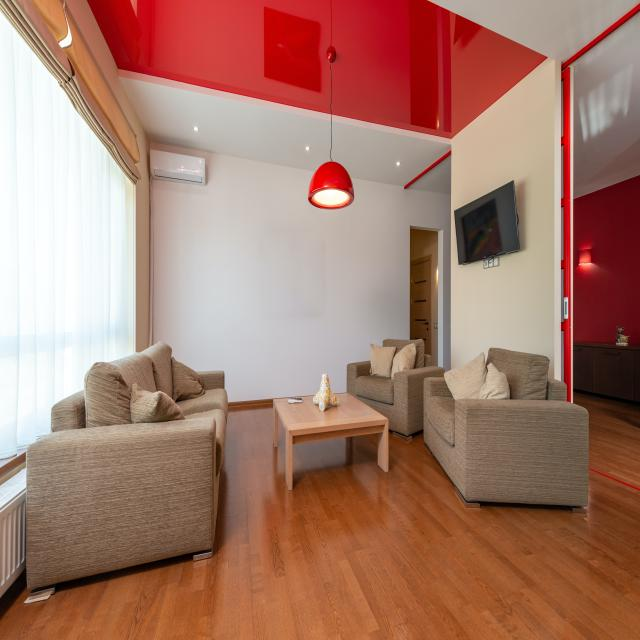floor: (0, 388, 640, 640)
wall: (150, 142, 451, 402), (451, 57, 555, 379), (64, 0, 150, 352), (573, 175, 640, 344), (454, 180, 520, 269), (410, 229, 438, 366), (438, 229, 443, 368)
